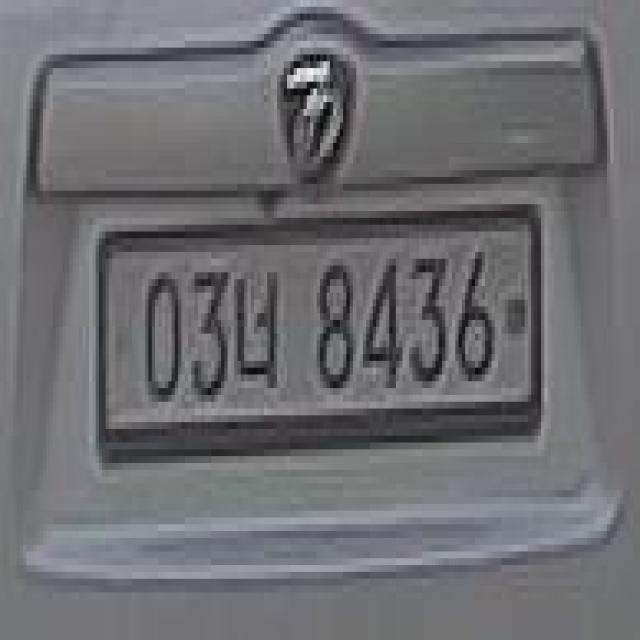illegal_plate: (90, 212, 544, 460)
